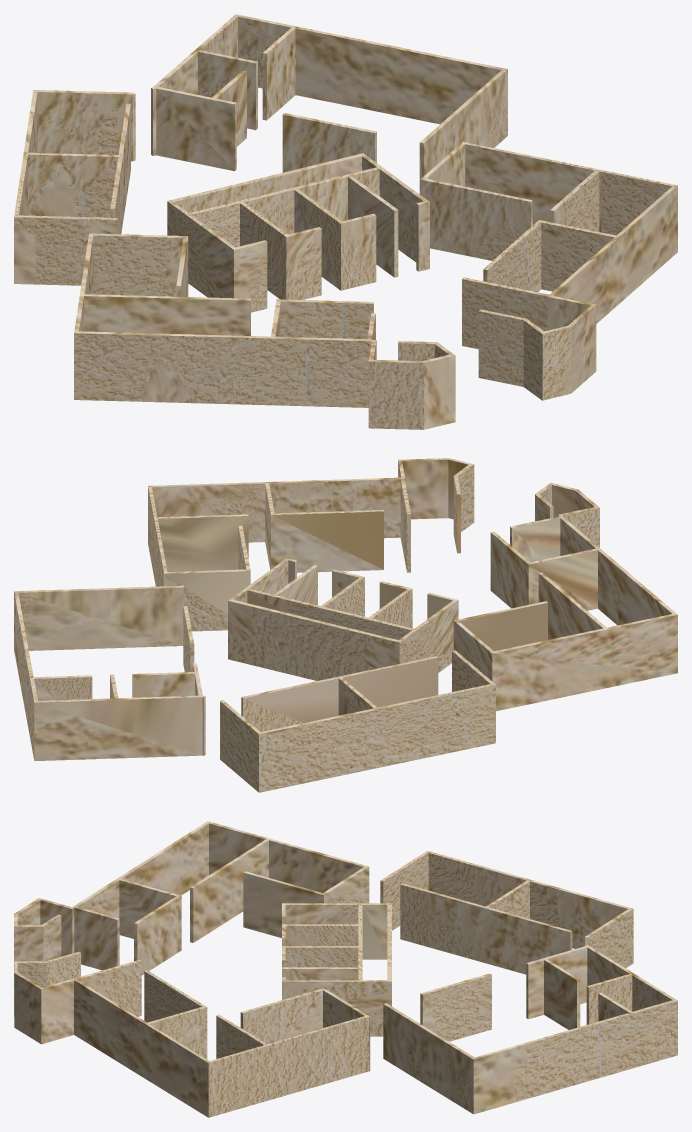
The model's file is plano_texturas_pared.dae.
3 renders of one model, top to bottom at view 1: azimuth 30°, elevation 25°; view 2: azimuth 150°, elevation 25°; view 3: azimuth 270°, elevation 25°, orthographic. The views are drawn at different scales.
Parts seen in each view (by area): view 1: Plano_paredes_2; view 2: Plano_paredes_2; view 3: Plano_paredes_2.
Boxes of the visible parts, x1,y1,x2,y2 form: Plano_paredes_2: (14, 14, 677, 429); Plano_paredes_2: (14, 458, 677, 792); Plano_paredes_2: (14, 821, 677, 1117).
Size of the model in its own units: 28.88 by 33.49 by 3.05.
Materials: 1 (1 with a texture image).
